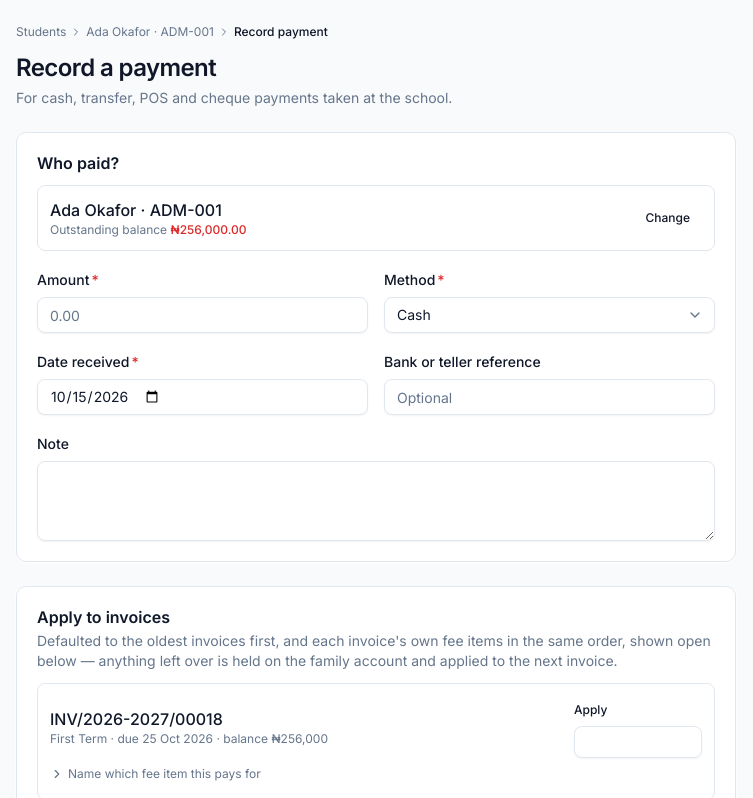
Test: PaymentFormPage fee-item tally › opting out: naming amounts by hand › the rescue button fixes a hand-typed mismatch without leaving manual mode
Type "100000" into the number field labelled "Amount*" at [202, 315], box [37, 297, 368, 333]
(page scrolled)
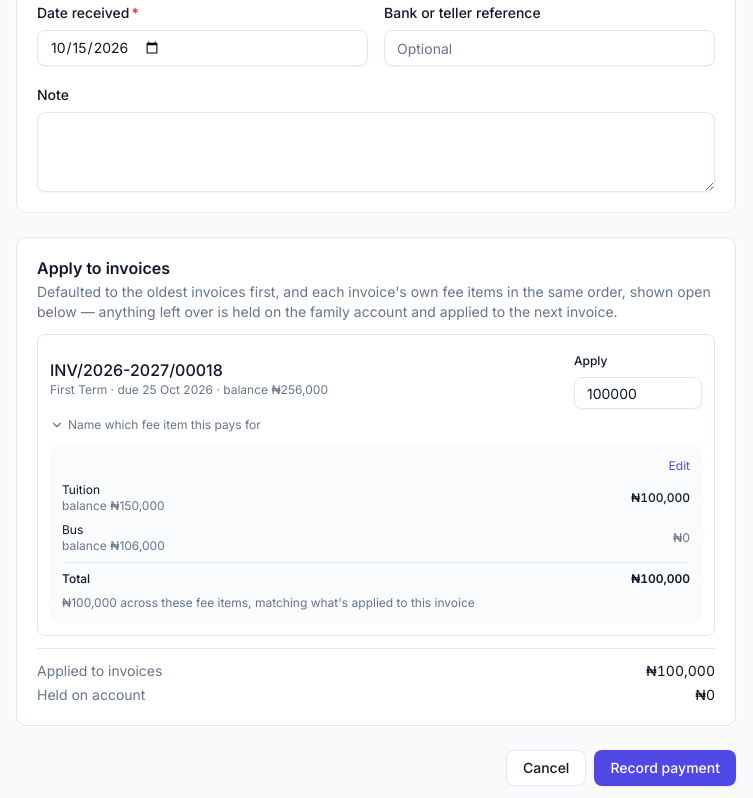
Check: the text "Tuition" is shown, box [62, 482, 100, 497]
Click the button "Edit" at [679, 466], box [669, 458, 690, 474]
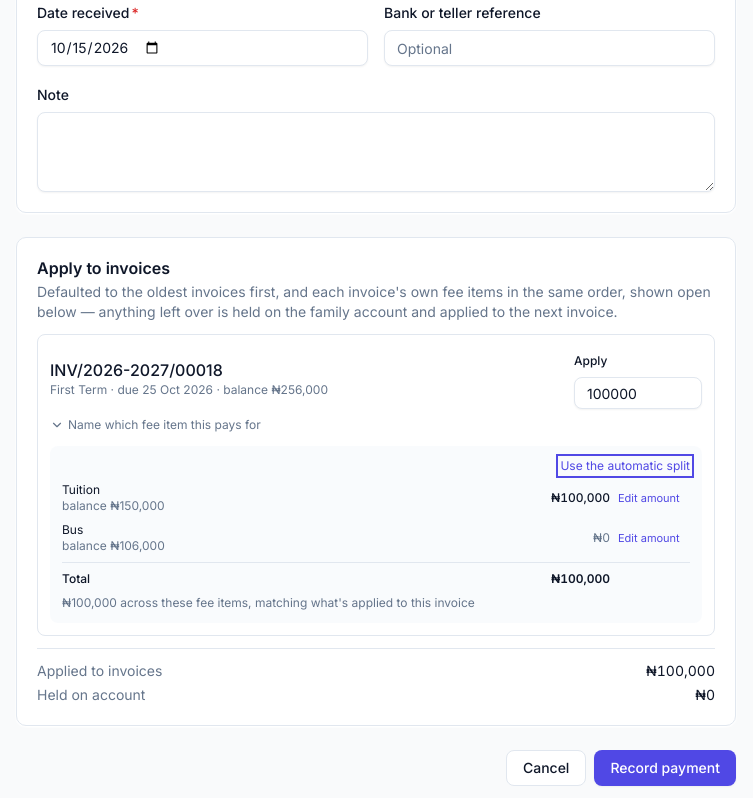
Click the button "Edit amount" in the row of "Tuition" at [654, 498], box [618, 490, 690, 506]
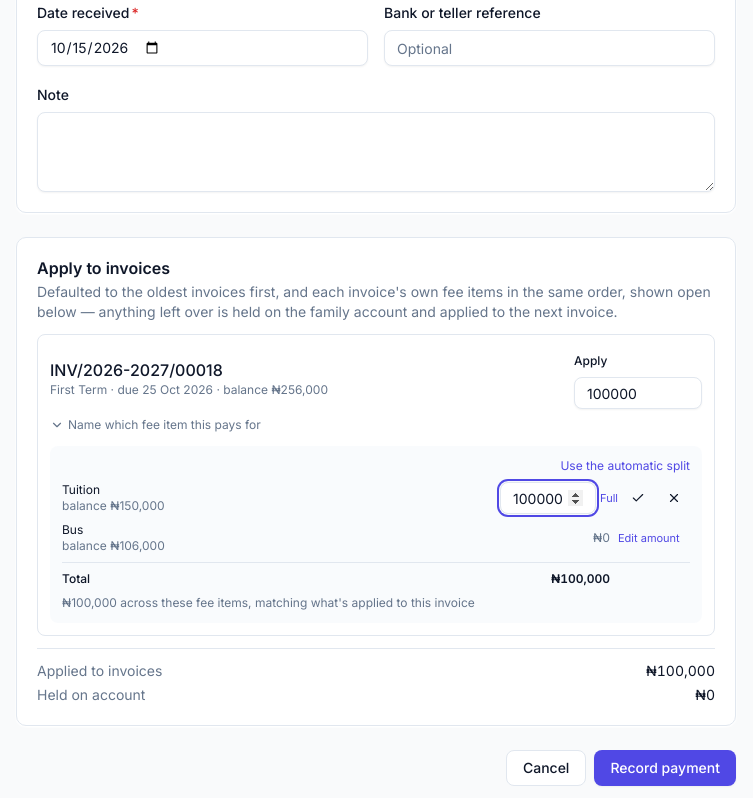
Replace the text in the number field with test id "finance-payment-form-line-line-a" with "50000" at [548, 498], box [500, 482, 596, 514]
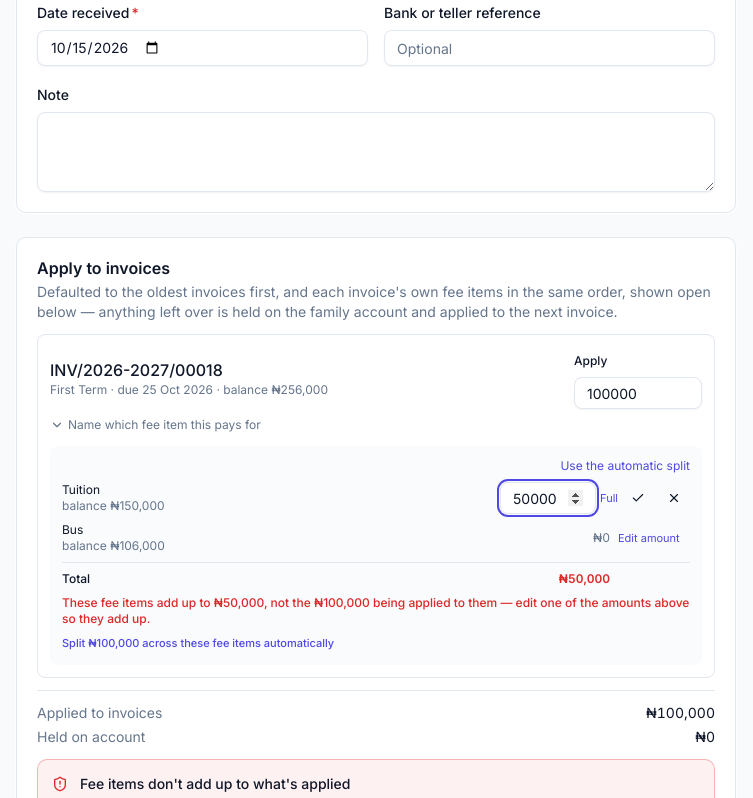
Click the button named "Done" at [638, 498], box [622, 482, 654, 514]
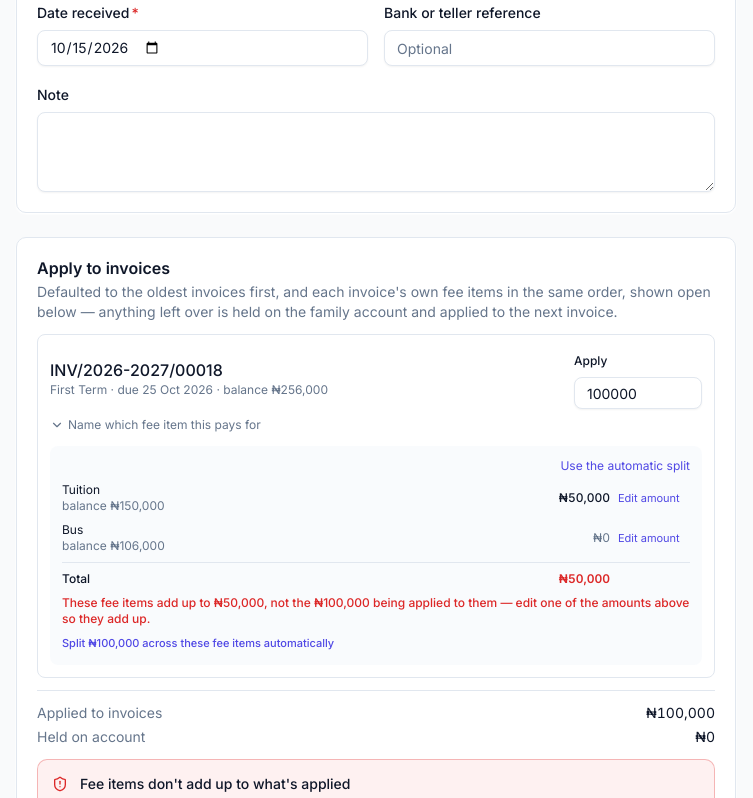
Click the button "Split ₦100,000 across these fee items automatically" at [198, 643], box [62, 635, 334, 652]
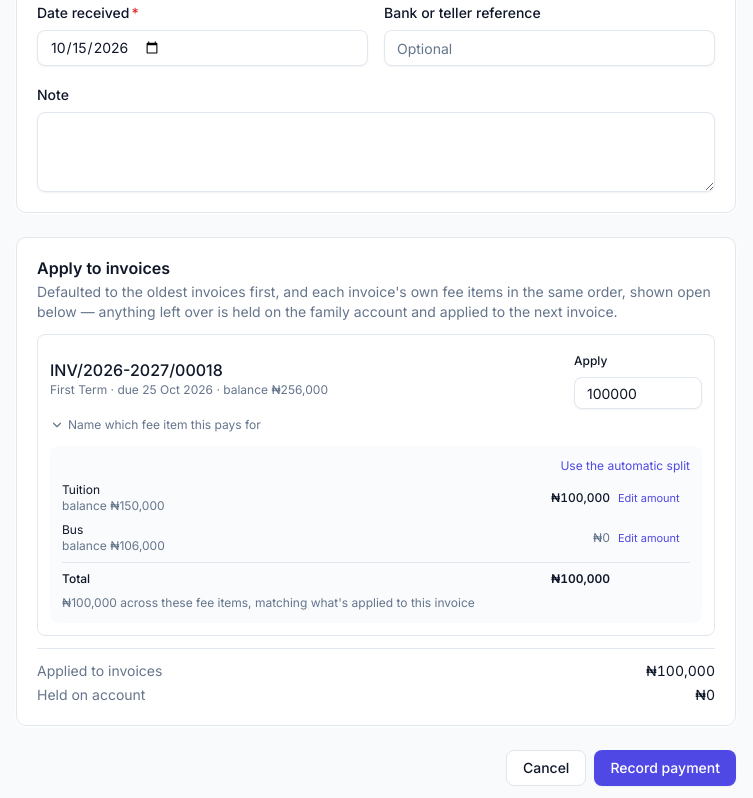
Check: the button "Use the automatic split" is shown, box [560, 458, 690, 474]
Check: the text with test id "finance-payment-form-line-line-a" shows "100,000", box [551, 490, 610, 505]
Check: the button "Record payment" is enabled, box [594, 750, 736, 786]
